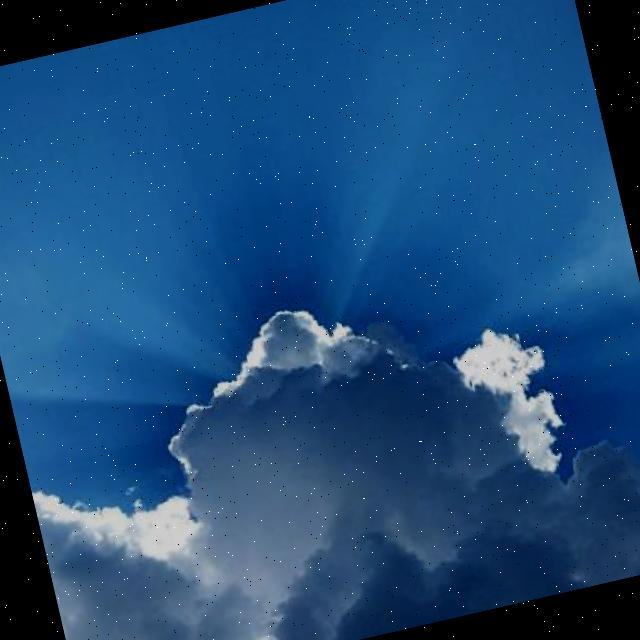As: (1, 208, 640, 640)
